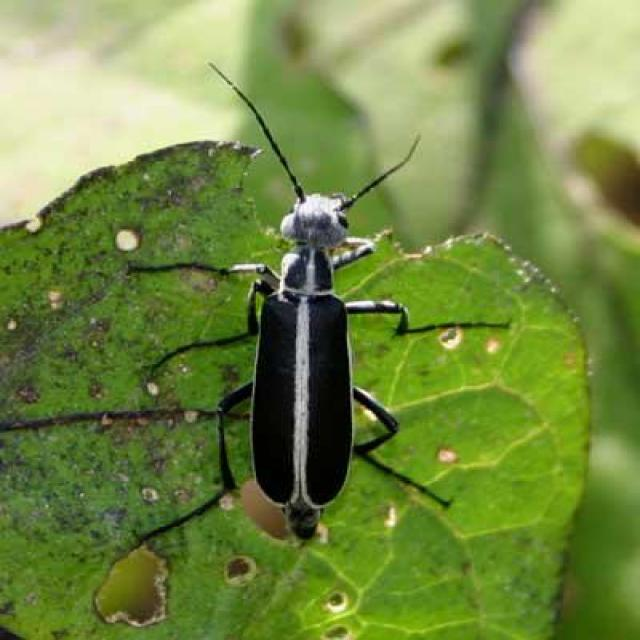BlisterBeetle-Adult-: (140, 61, 478, 541)
